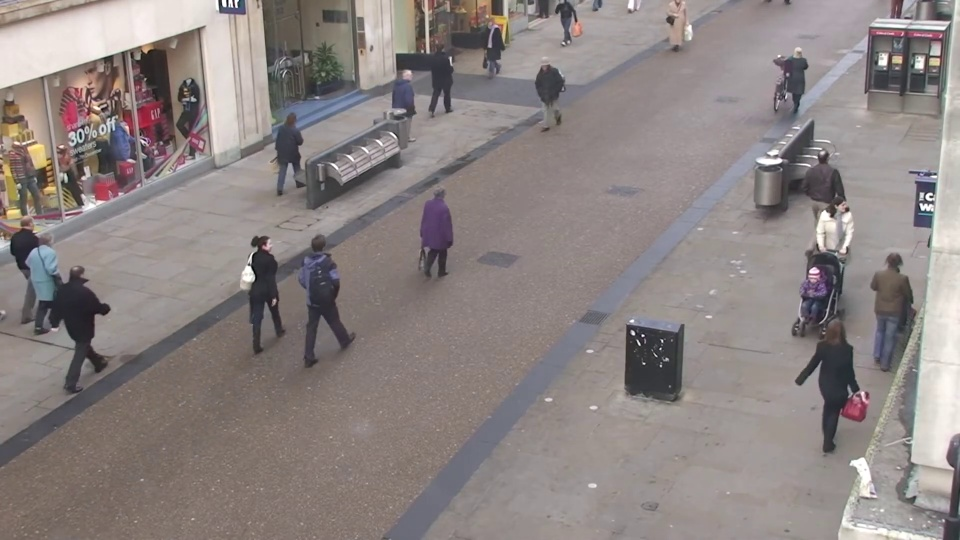pedestrian: (808, 310, 864, 458), (66, 250, 124, 378), (864, 243, 918, 374), (32, 220, 89, 341), (782, 262, 833, 397), (12, 206, 70, 323), (253, 224, 300, 347), (309, 223, 354, 347), (810, 197, 856, 316), (428, 175, 467, 288), (807, 138, 847, 241), (283, 105, 317, 197), (399, 65, 428, 146), (782, 40, 812, 117), (530, 56, 557, 135), (430, 37, 457, 110), (479, 16, 503, 83)
